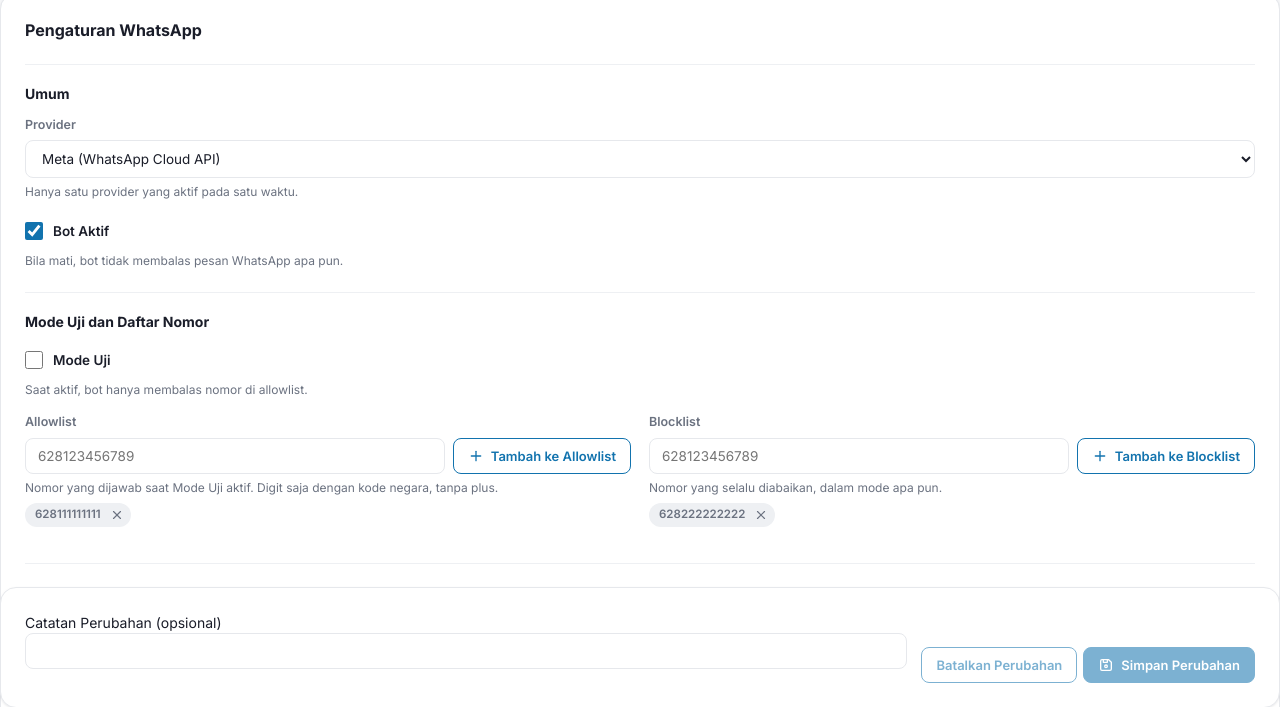
Test case: Halaman Channel: pengaturan › catatan allowlist tampil hanya saat mode uji aktif
(page scrolled)
Expected: the text "Bot hanya menjawab nomor di allowlist." is not shown
Click the switch labelled "Mode Uji" at (34, 360), box [25,351,43,369]
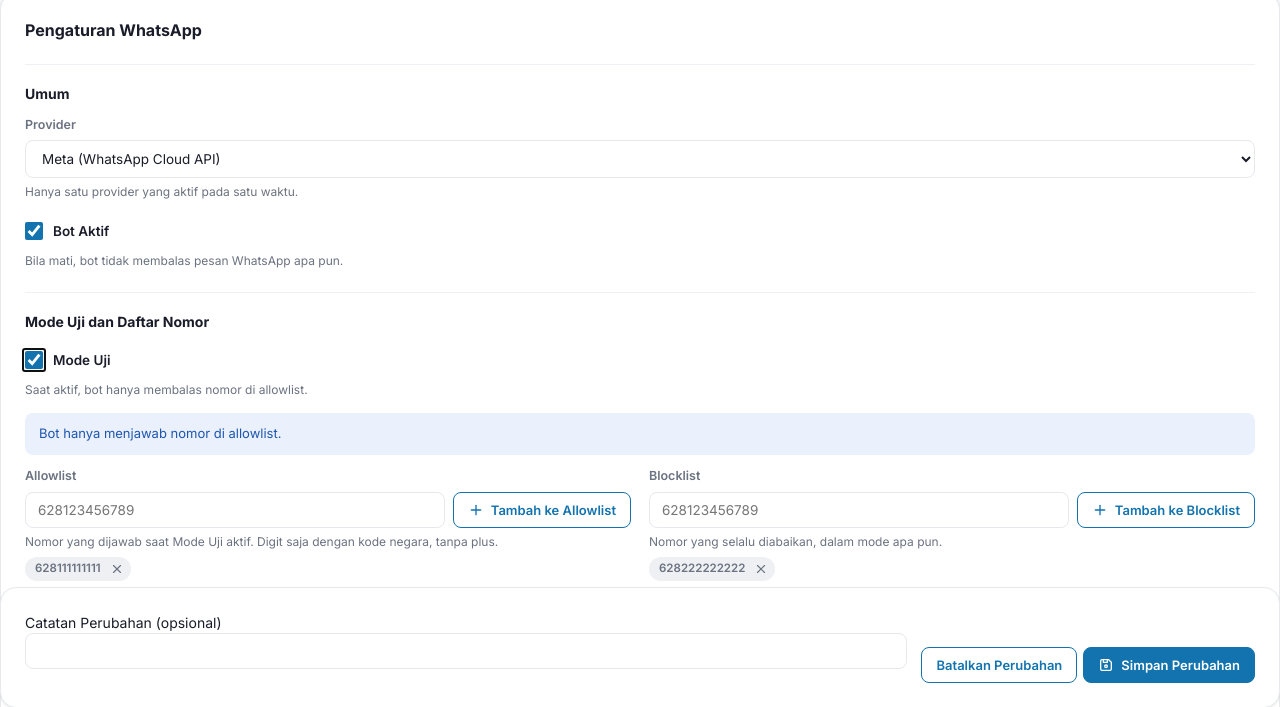
Result: the text "Bot hanya menjawab nomor di allowlist." is shown at [39,424,282,444]
